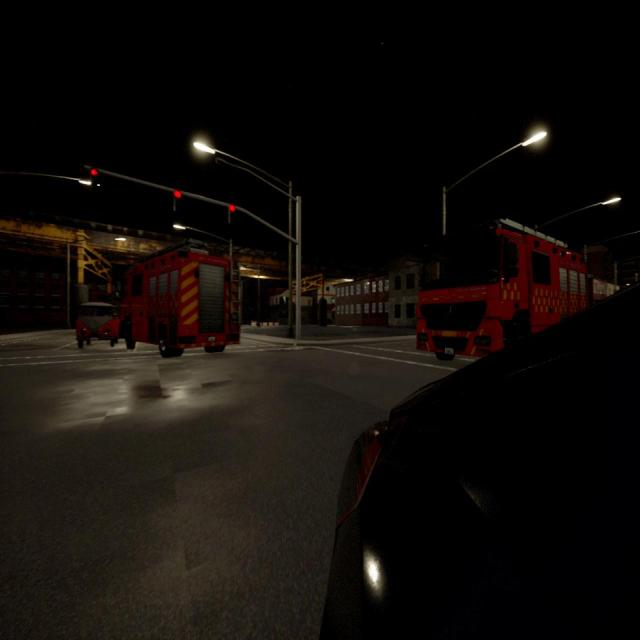Vehicle: (326, 294, 639, 640), (418, 222, 586, 359), (122, 247, 240, 356), (76, 304, 117, 347)
traffic_light: (90, 167, 98, 185), (174, 190, 181, 210), (228, 205, 235, 222)
